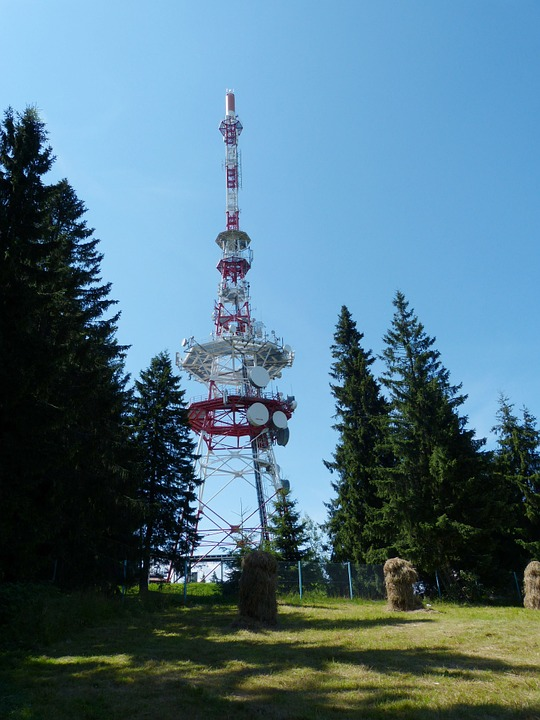b: (249, 365, 271, 388), (248, 403, 269, 426), (273, 410, 286, 429), (180, 338, 188, 346)
